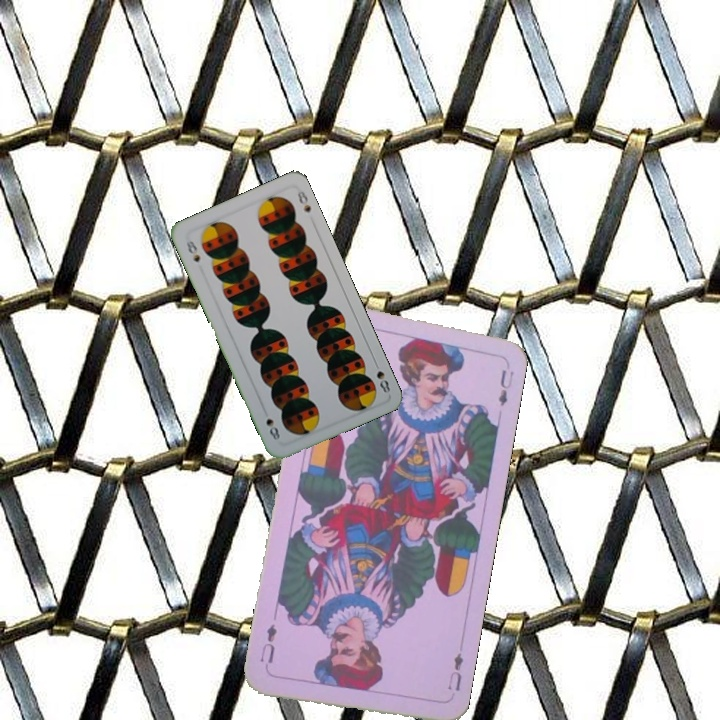EU: (444, 649, 466, 693)
S8: (370, 357, 393, 396), (182, 237, 203, 265)
